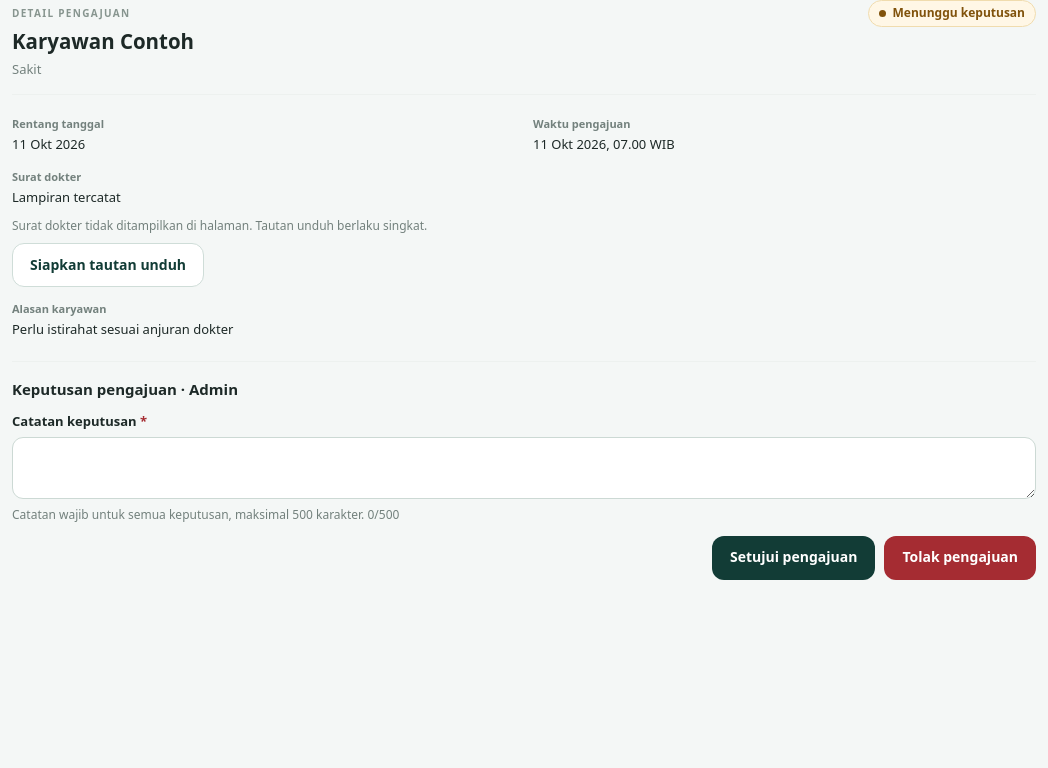
Scenario: mounted reviewer doctor-note download › renders a safe temporary link without showing or previewing the signed URL
Click the button "Siapkan tautan unduh". click: (108, 265)
box: [12,243,204,287]
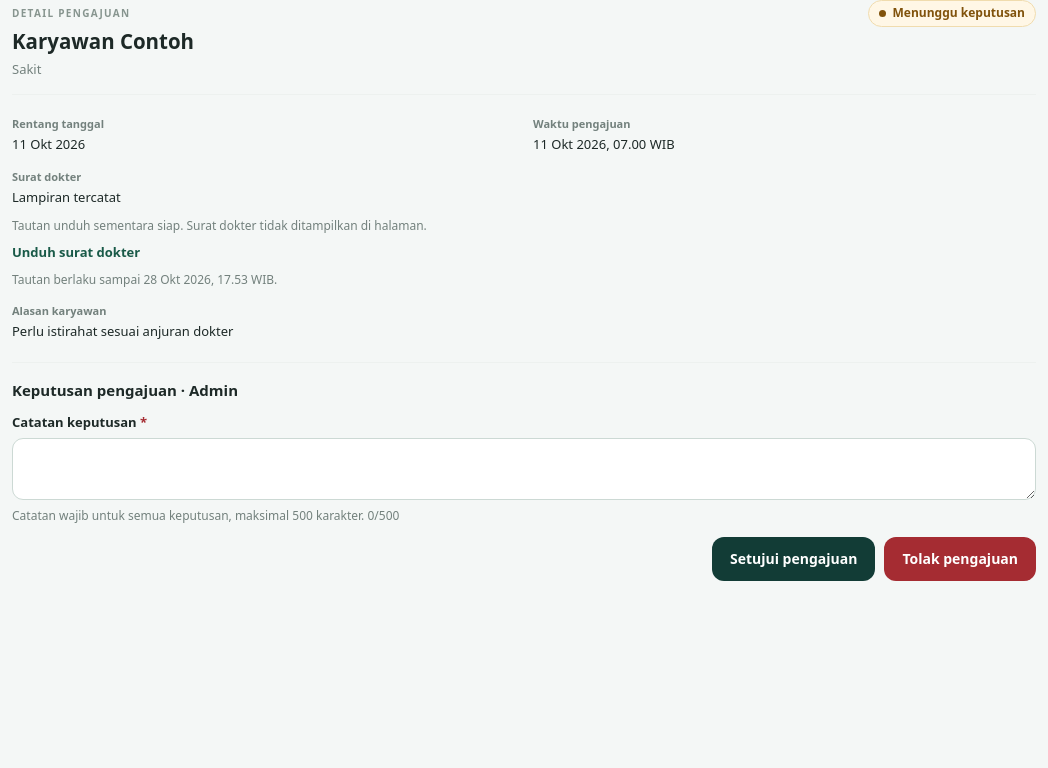
Now the link "Unduh surat dokter" is shown, box [12,243,140,262]
